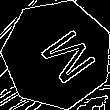M_SW: (23, 21, 92, 88)
